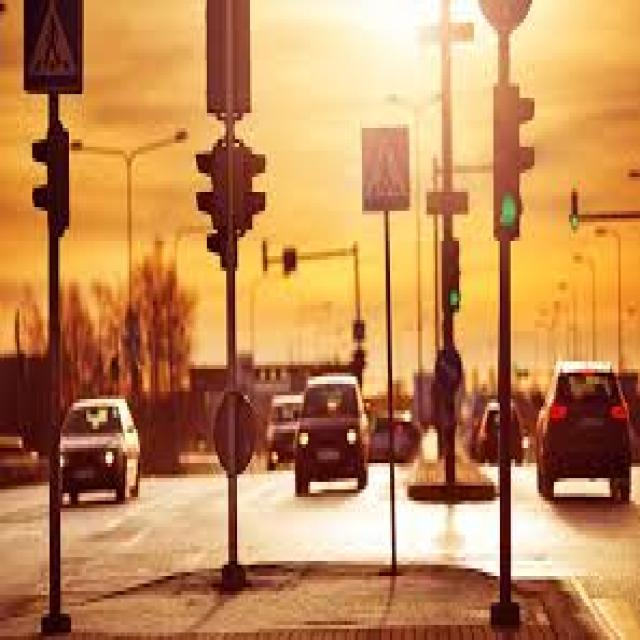traffic signal ahead at: (196, 129, 265, 275), (489, 76, 538, 264), (28, 115, 74, 242), (437, 237, 467, 316)
